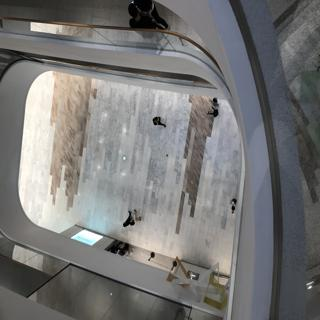person: (118, 204, 146, 233), (141, 110, 177, 132)
